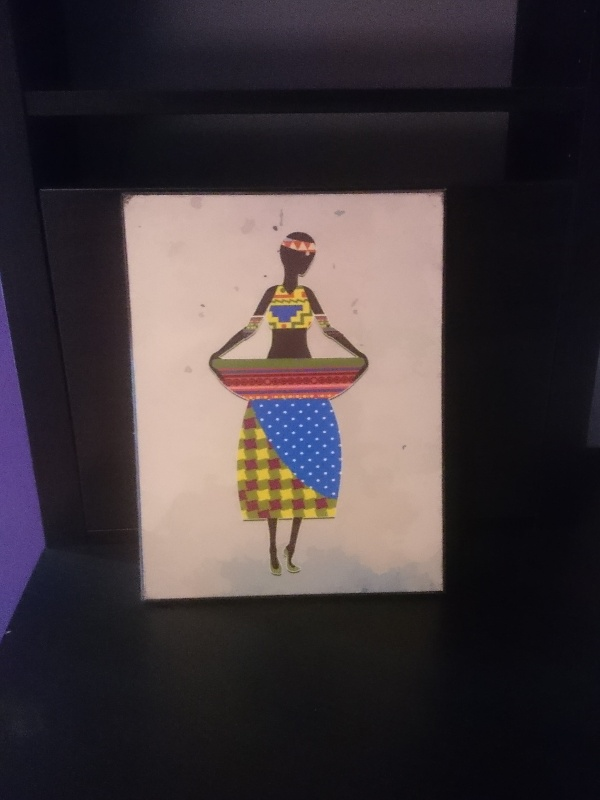my image: (143, 194, 441, 599)
